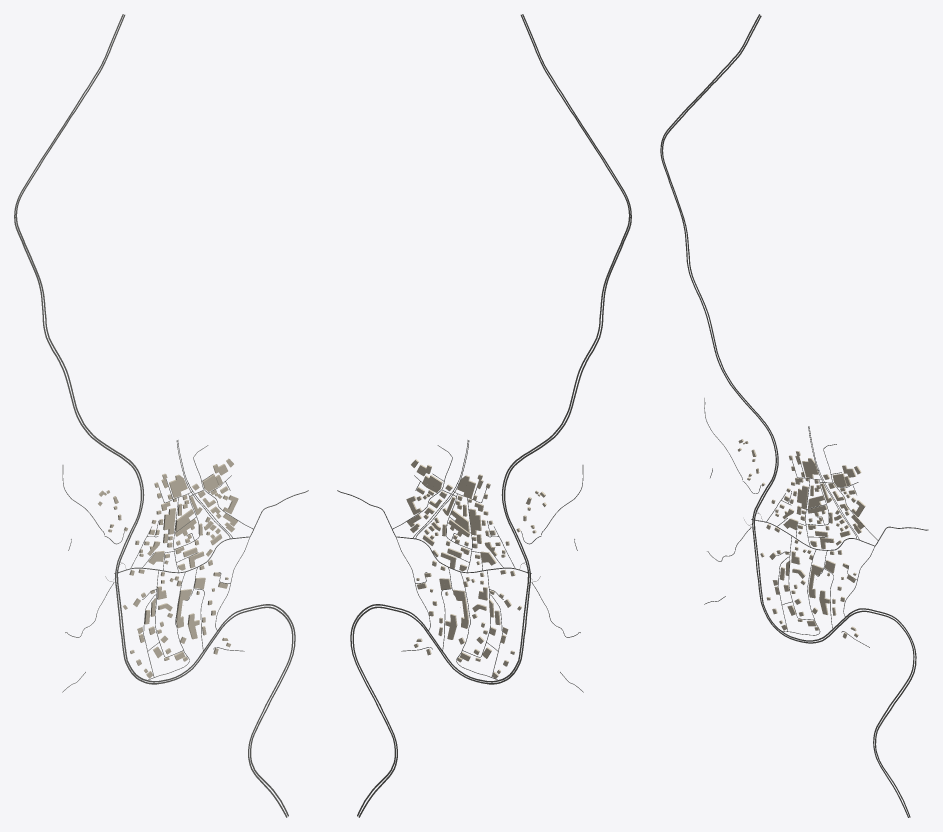
The model's file is salt_3570_3203.glb.
The picture shows the model from 3 angles, left to right: view 1: azimuth 30°, elevation 25°; view 2: azimuth 150°, elevation 25°; view 3: azimuth 330°, elevation 25°; orthographic projection. The views are drawn at different scales.
Visible parts, largest first — view 1: Road .025, Road .032; view 2: Road .025, Road .032; view 3: Road .032, Road .025.
Part boxes in pixels (bbox=[...]): Road .025: bbox=[15, 14, 295, 816]; Road .032: bbox=[14, 14, 293, 817]; Road .025: bbox=[350, 14, 630, 816]; Road .032: bbox=[352, 14, 631, 817]; Road .032: bbox=[660, 14, 914, 817]; Road .025: bbox=[662, 15, 916, 817].
Bounding box in the file's own units: 1733 × 4740 × 14.2.
